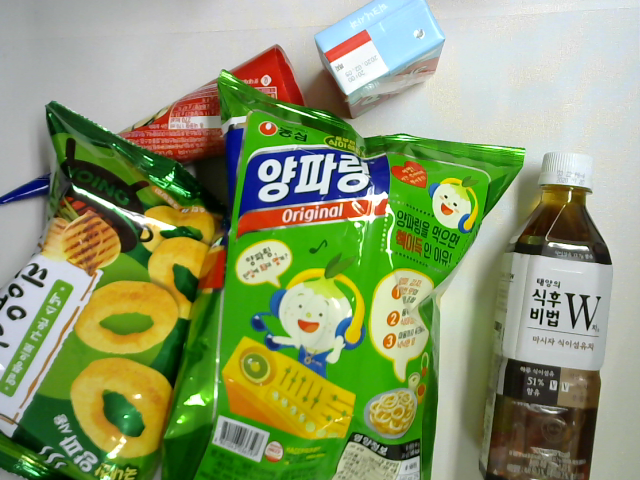Grilled_Onions: (1, 98, 228, 480)
Oninon_Ring: (158, 67, 529, 480)
Picnic_Apple: (314, 1, 446, 118)
Post-meal_recipe_W_tea_500ml: (479, 145, 616, 480)
World_Cone_Banila: (1, 45, 309, 204)
